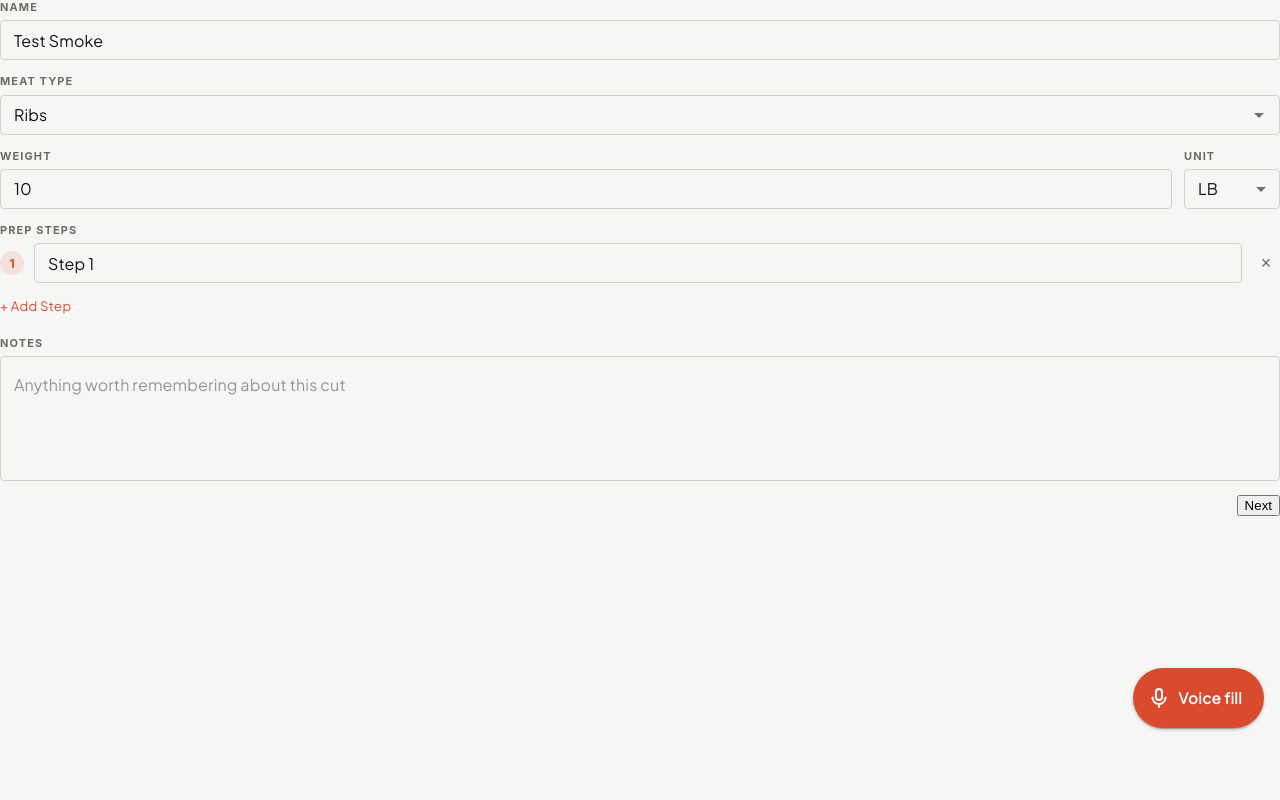
Test: Voice Fill on the pre-smoke screen › when the microphone is refused › the sheet says Microphone blocked, how to allow it, and Close; the button stays
Expected: the field showing "Test Smoke" is shown, [0,20,1279,60]
Click the button "Voice fill".
click(1198, 698)  # box [1133,668,1264,728]
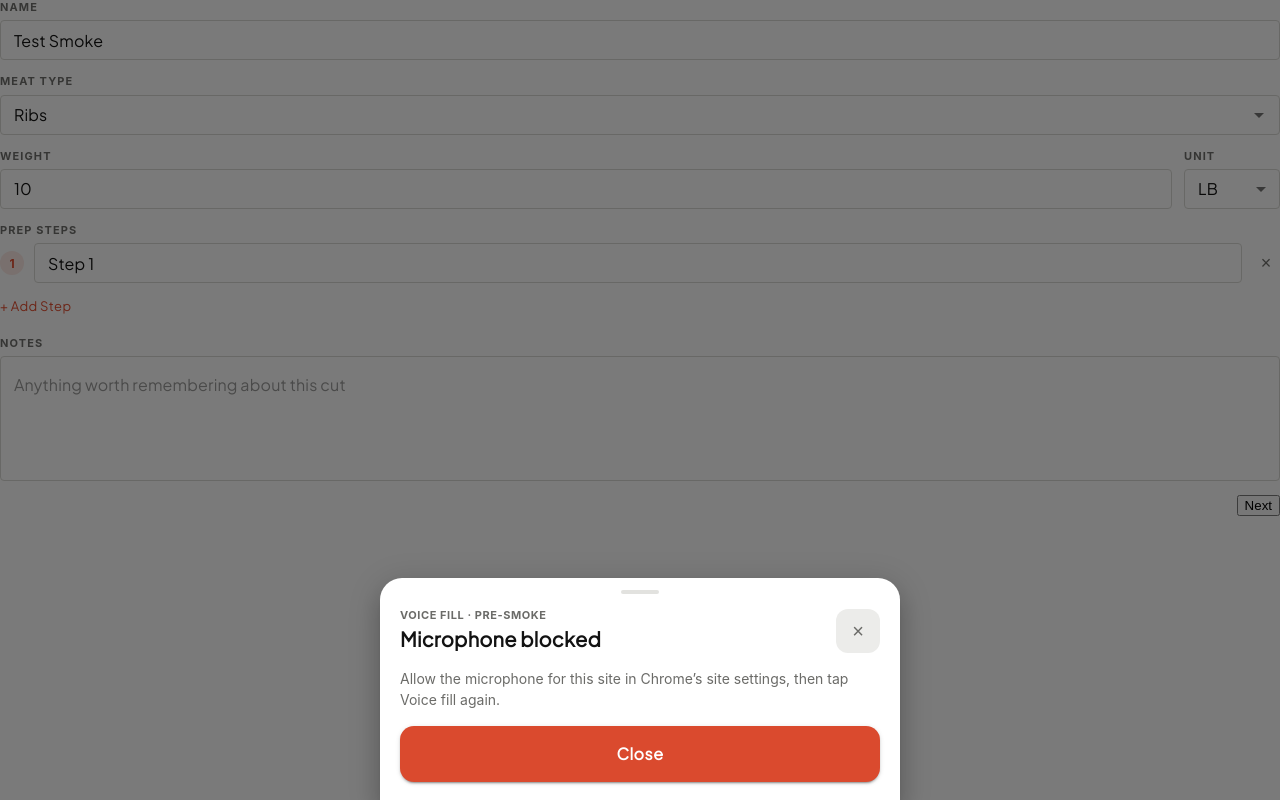
Result: the heading "Microphone blocked" is shown at [400,624,601,654]
Result: the text "Allow the microphone for this site in Chrome’s site settings, then tap Voice fill again." is shown at [400,670,848,708]
Click the button with test id "voice-fill-blocked-close".
click(640, 754)  # box [400,726,880,782]
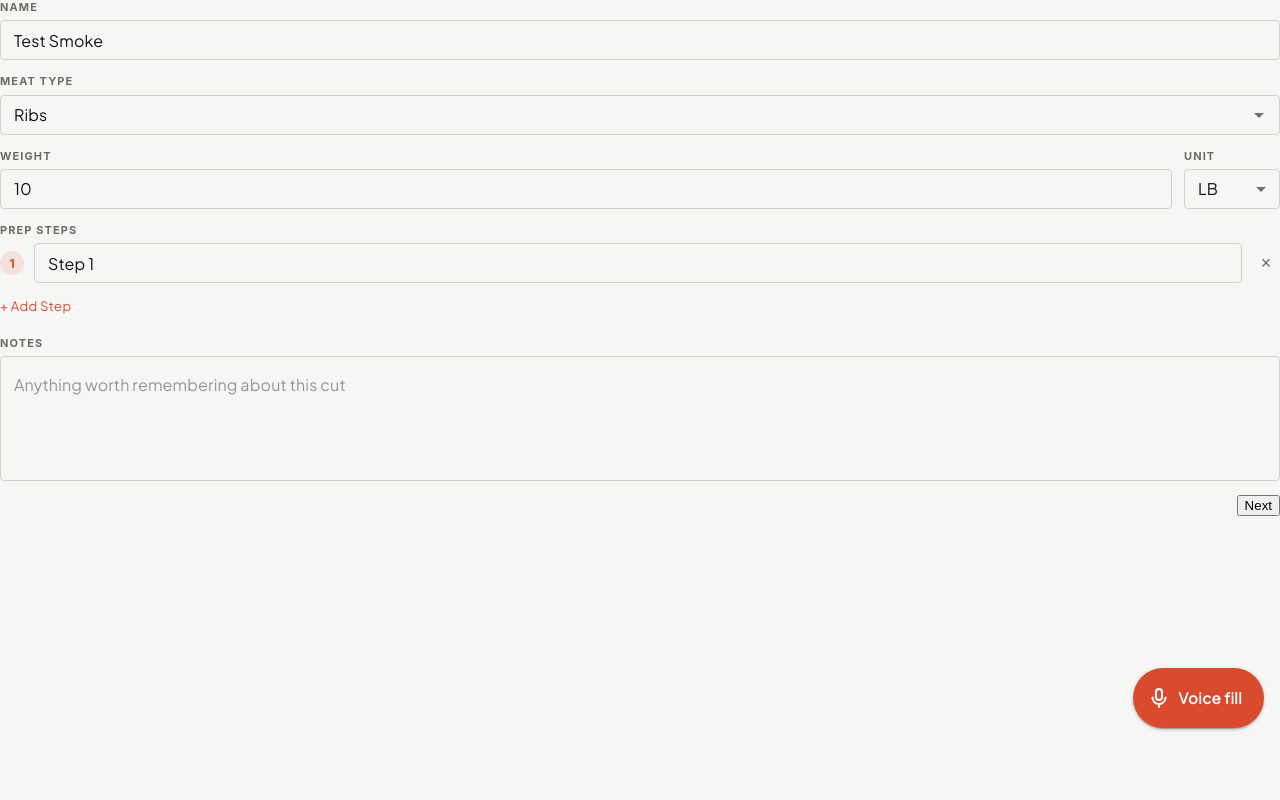
Expected: the button "Voice fill" is shown, [1133,668,1264,728]
Result: the dialog is gone
